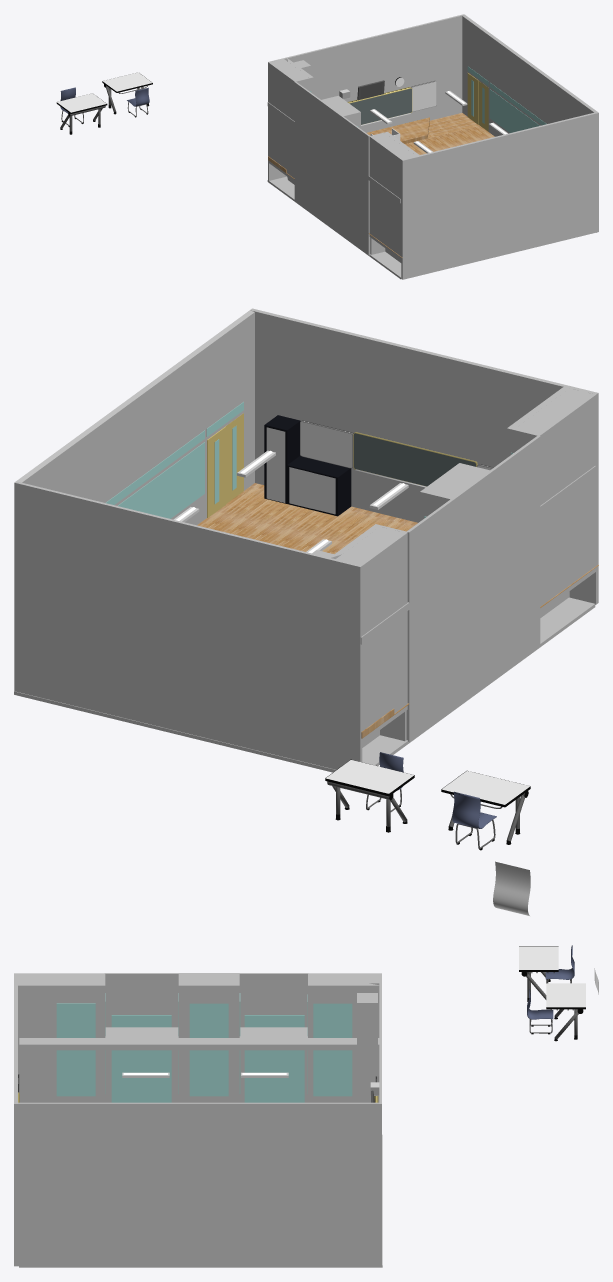
The picture shows the model from 3 angles, top to bottom: view 1: azimuth 30°, elevation 25°; view 2: azimuth 150°, elevation 25°; view 3: azimuth 270°, elevation 25°; orthographic projection. The views are drawn at different scales.
Visible parts, largest first — view 1: 立方体.015, 立方体.012, 立方体.014, 立方体.013, 立方体.058, 立方体.055, 立方体, 立方体.018, 立方体.033, 立方体.016, 円柱.015, 立方体.020 (+4 smaller); view 2: 立方体.014, 立方体.012, 立方体.015, 立方体.013, 立方体.058, 立方体.055, 立方体, 立方体.027, 立方体.016, 立方体.033, 円柱.015, 立方体.044 (+10 smaller); view 3: 立方体.013, 立方体.012, 立方体.025, 立方体.036, 立方体.037, 立方体.035, 立方体.032, 立方体.034, 立方体.023, 円柱.015, 立方体.007, 立方体.058 (+5 smaller).
Part boxes in pixels (box(x1,y1,x2,y2)): 立方体.015: box(401, 112, 598, 279); 立方体.012: box(287, 58, 420, 262); 立方体.014: box(268, 14, 464, 180); 立方体.013: box(462, 15, 597, 232); 立方体.058: box(369, 133, 415, 260); 立方体.055: box(269, 59, 308, 181); 立方体: box(268, 113, 494, 257); 立方体.018: box(347, 87, 412, 125); 立方体.033: box(489, 89, 539, 132); 立方体.016: box(267, 176, 401, 279); 円柱.015: box(102, 72, 152, 114); 立方体.020: box(411, 80, 436, 111); 立方体.014: box(14, 481, 362, 769); 立方体.012: box(329, 385, 570, 747); 立方体.015: box(250, 308, 598, 604); 立方体.013: box(15, 309, 254, 525); 立方体.058: box(515, 388, 598, 612); 立方体.055: box(336, 526, 407, 742); 立方体: box(197, 483, 598, 738); 立方体.027: box(353, 432, 477, 487); 立方体.016: box(14, 597, 595, 772); 立方体.033: box(118, 442, 204, 518); 円柱.015: box(325, 759, 414, 832); 立方体.044: box(264, 415, 300, 503); 立方体.013: box(14, 1102, 381, 1266); 立方体.012: box(15, 973, 379, 1102); 立方体.025: box(19, 1027, 379, 1050); 立方体.036: box(244, 1015, 304, 1102); 立方体.037: box(111, 1015, 171, 1102); 立方体.035: box(56, 1003, 95, 1096); 立方体.032: box(313, 1003, 352, 1096); 立方体.034: box(189, 1003, 228, 1096); 立方体.023: box(357, 993, 377, 1102); 円柱.015: box(546, 983, 585, 1041); 立方体.007: box(519, 946, 558, 971); 立方体.058: box(18, 973, 103, 983).
Size of the model in its own units: 56.26 by 17.42 by 56.36.
22 materials, 1 textured.
